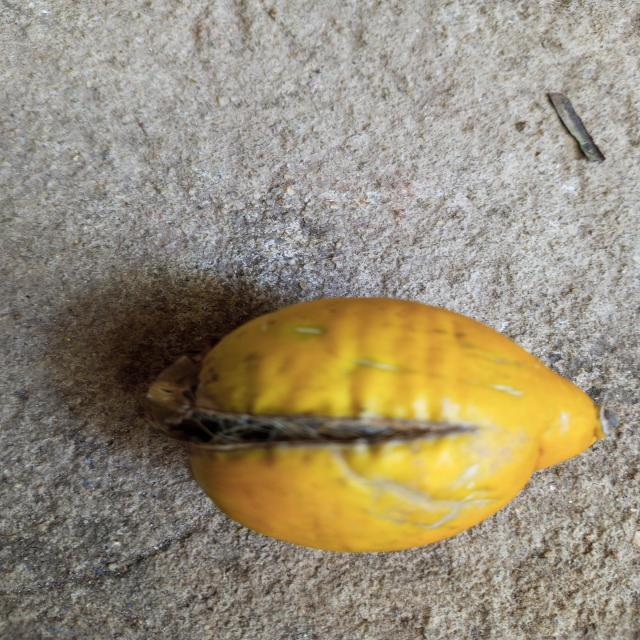damaged: (147, 297, 606, 555)
